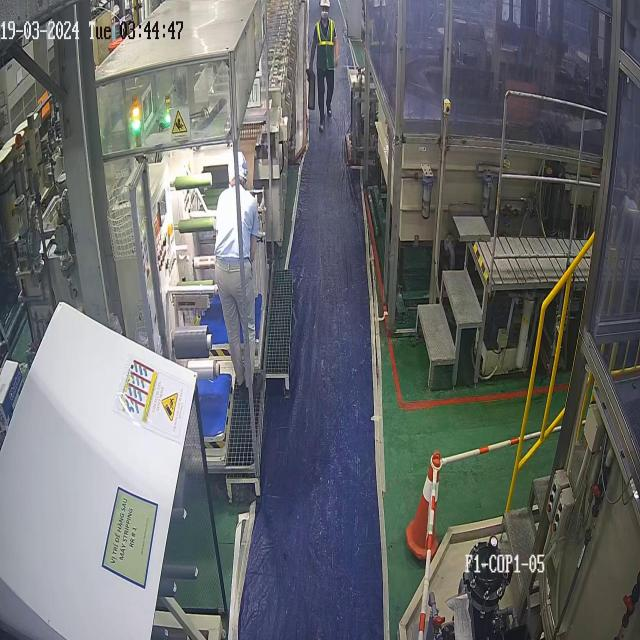Person: (213, 150, 260, 388), (308, 0, 339, 132)
